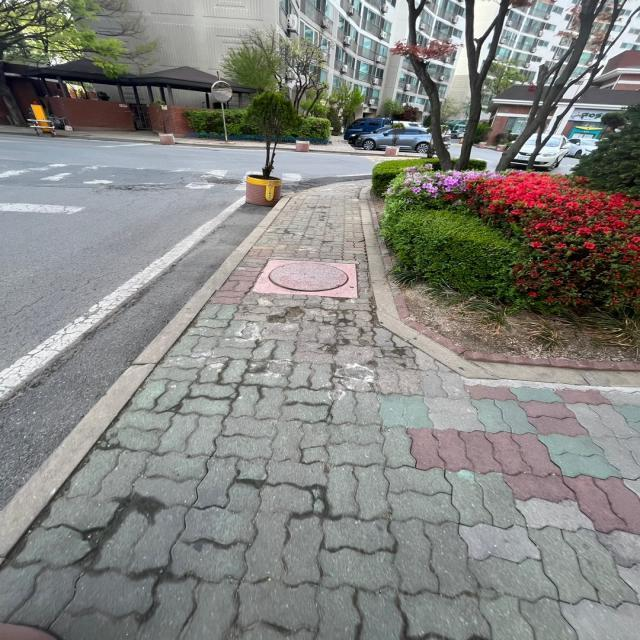Sewer Cover: (252, 254, 375, 325)
